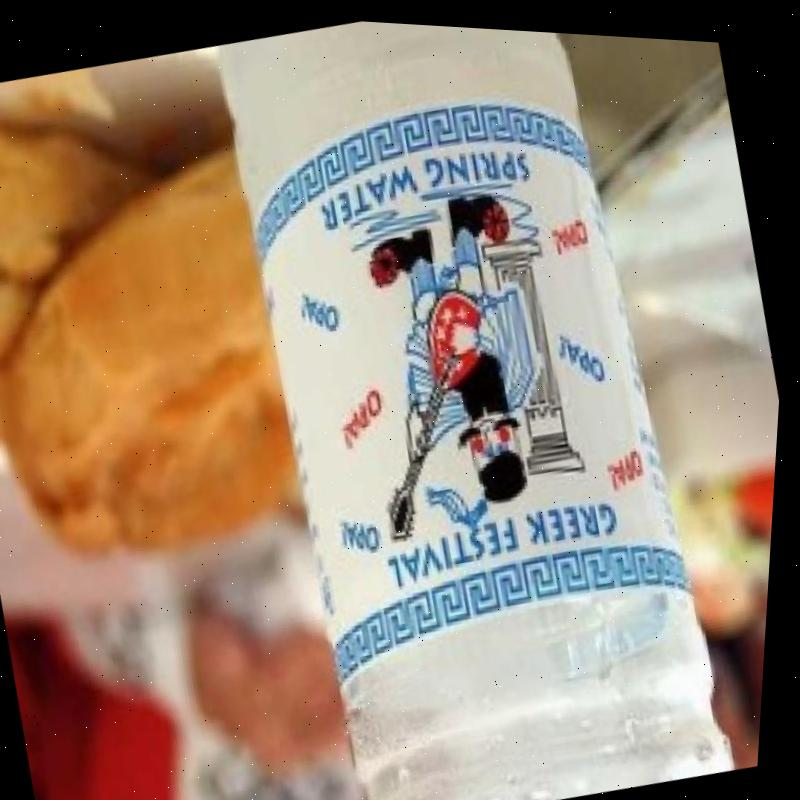botella: (173, 10, 778, 800)
